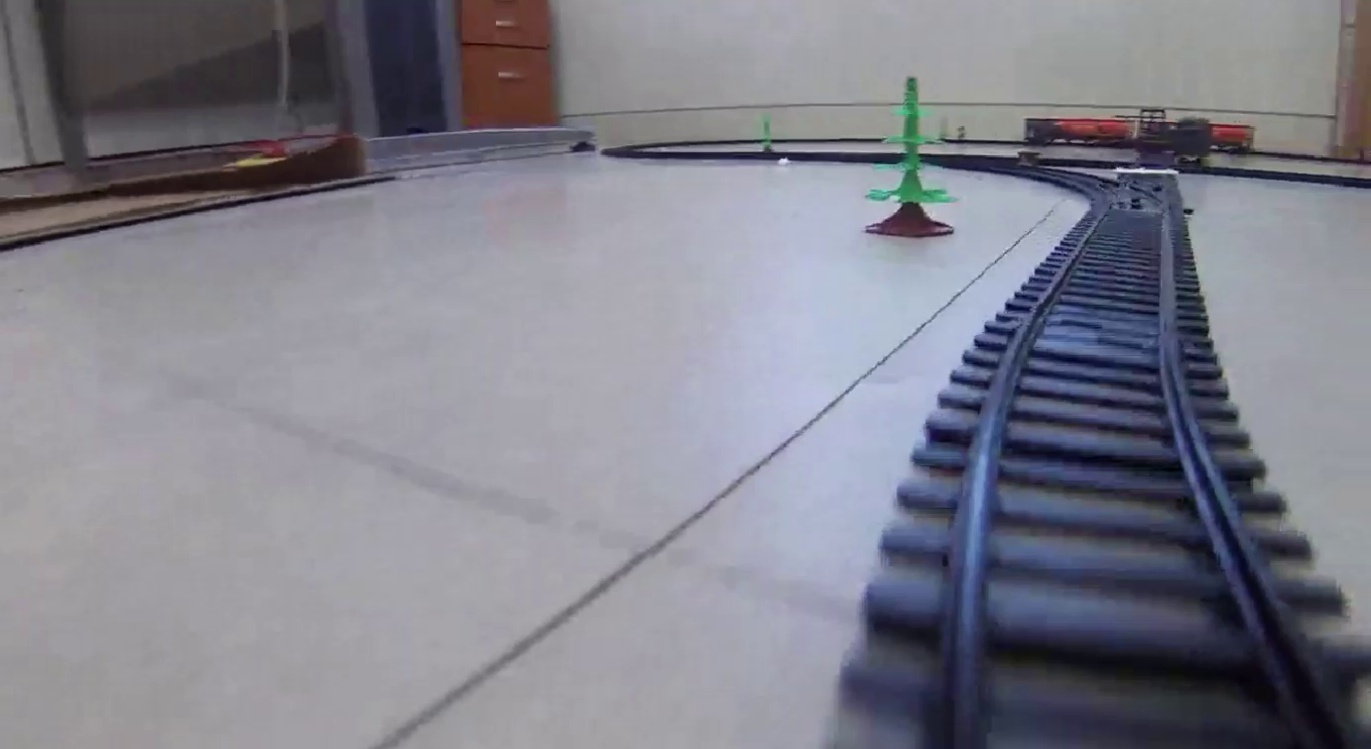tree: (863, 73, 958, 234)
